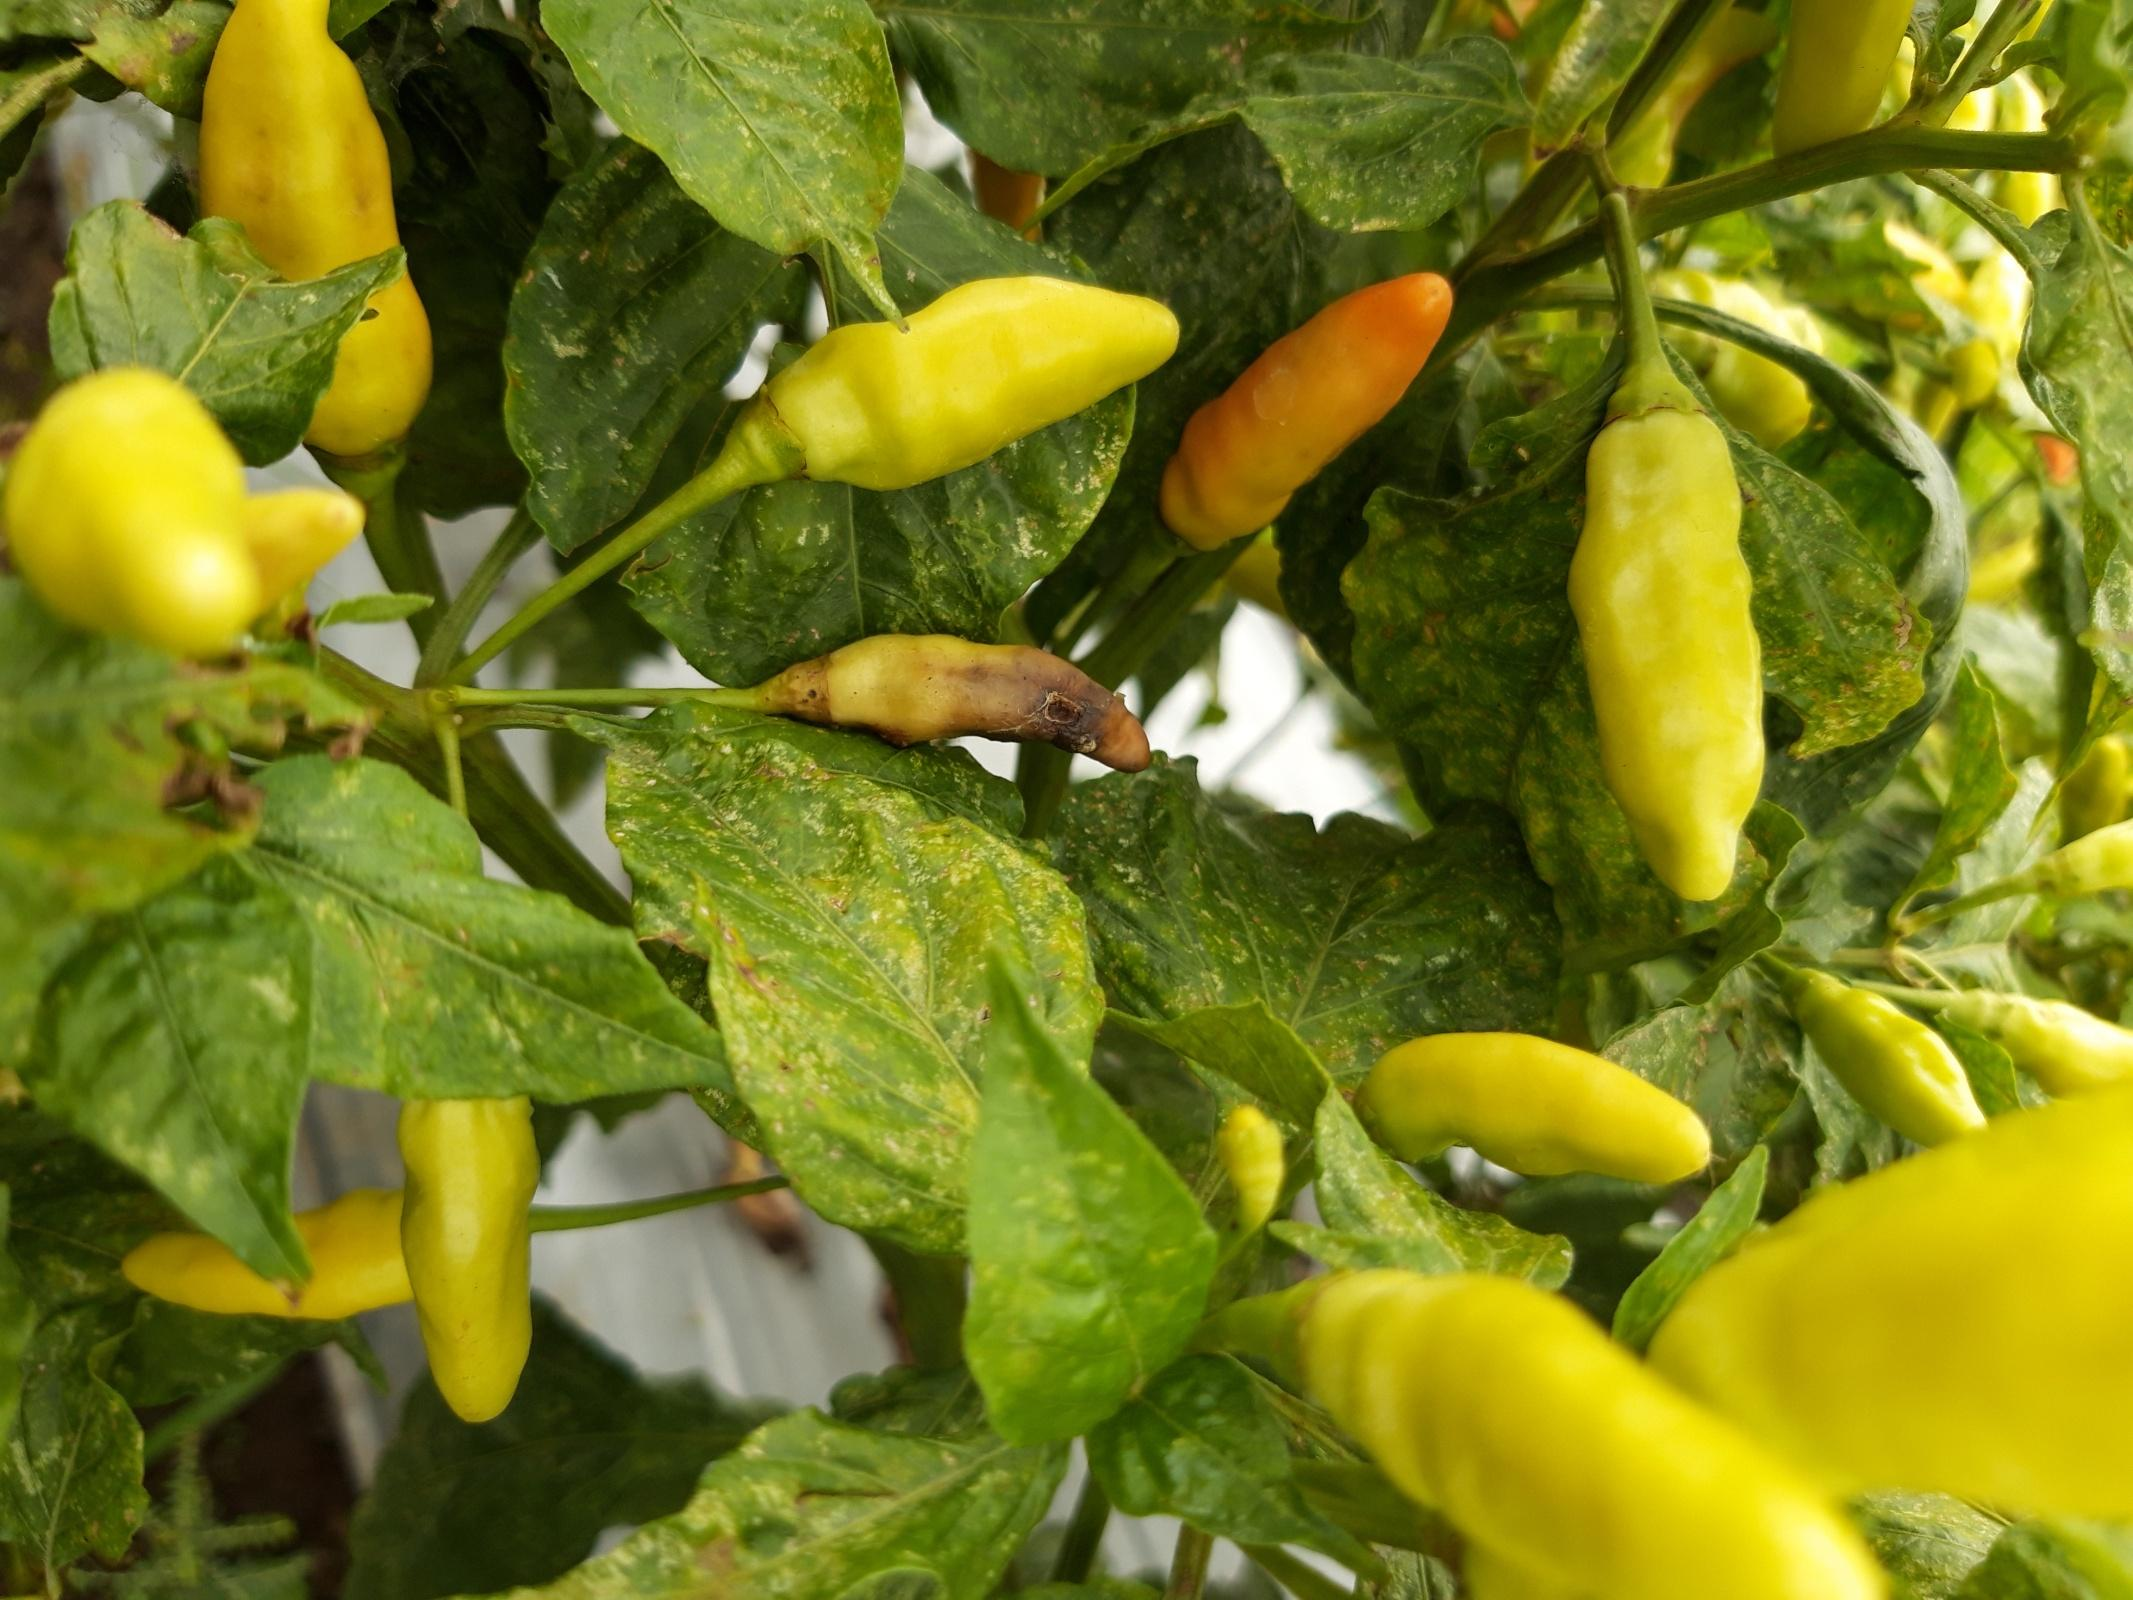cabai_normal: (1662, 1089, 2133, 1516), (1309, 1277, 1888, 1600), (202, 0, 439, 452), (1567, 417, 1765, 901), (768, 274, 1188, 496), (2, 363, 264, 662), (1167, 274, 1454, 541), (1365, 1022, 1713, 1187), (402, 1097, 535, 1424), (121, 1190, 412, 1326), (1797, 980, 1982, 1131), (1217, 1108, 1281, 1234)
lalat_buah: (810, 632, 1148, 775)
